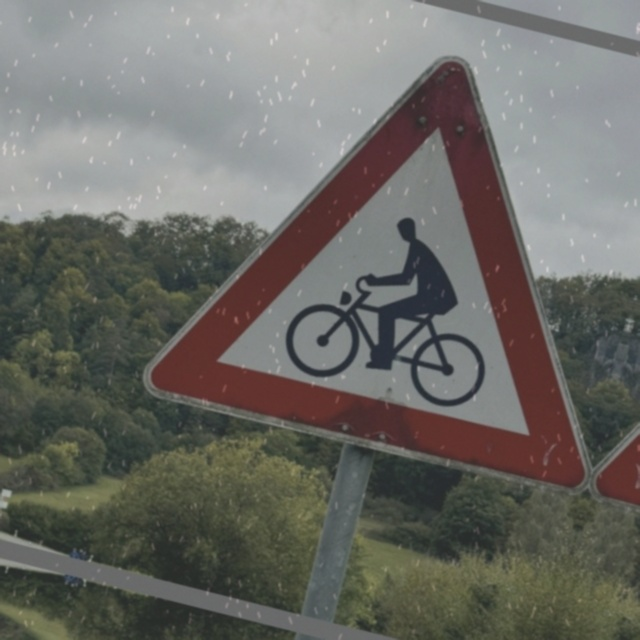Cycle_Crossing: (155, 1, 639, 502)
